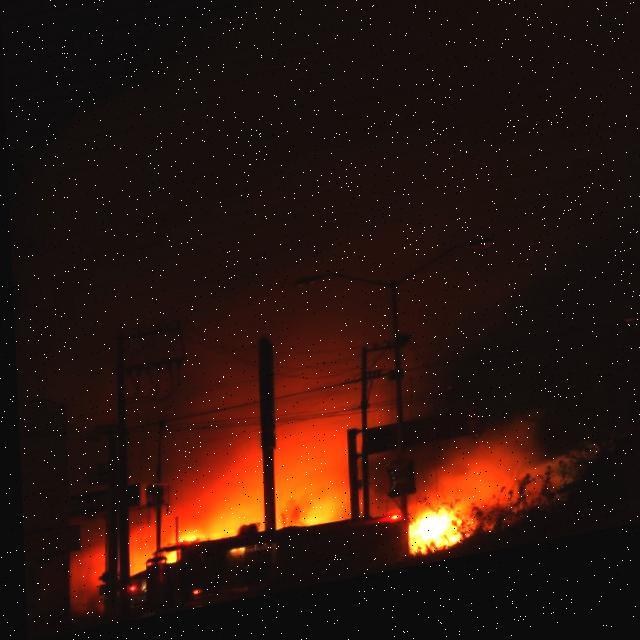Fire: (398, 514, 464, 568)
